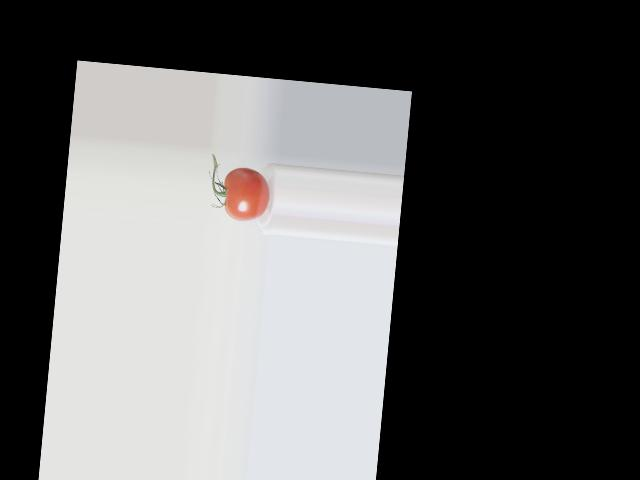tomato: (221, 165, 272, 223)
